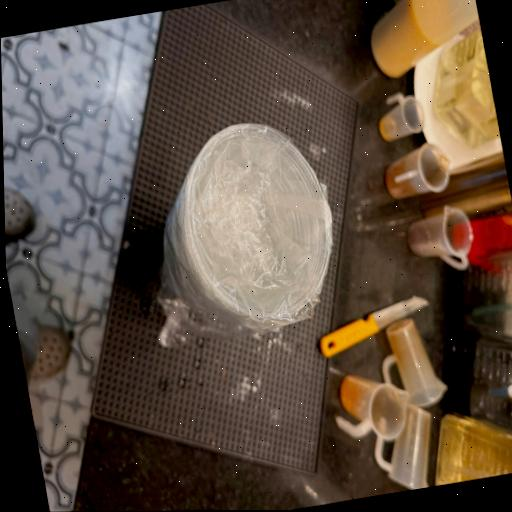ly_nhua: (162, 123, 331, 332)
